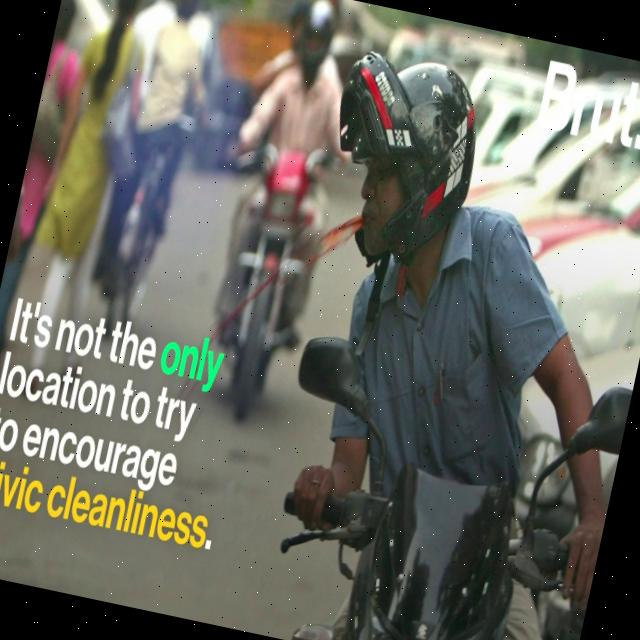spit: (223, 143, 392, 347)
